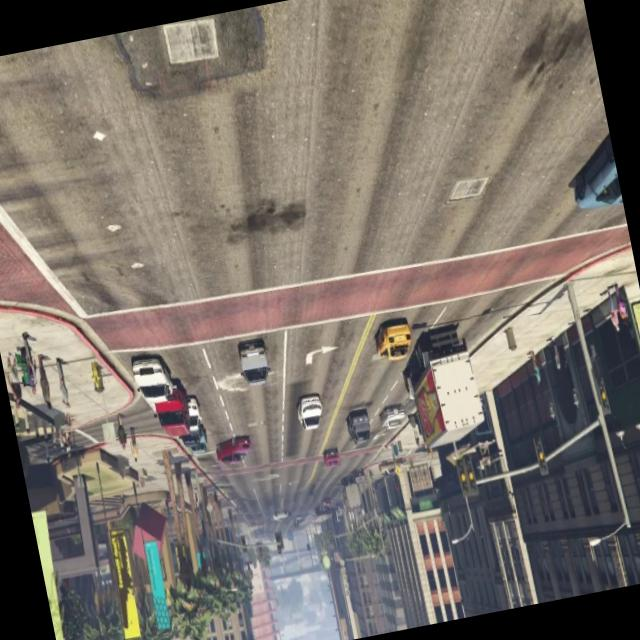Yellow-Signal: (452, 444, 484, 506), (527, 429, 554, 483), (593, 369, 615, 421)
